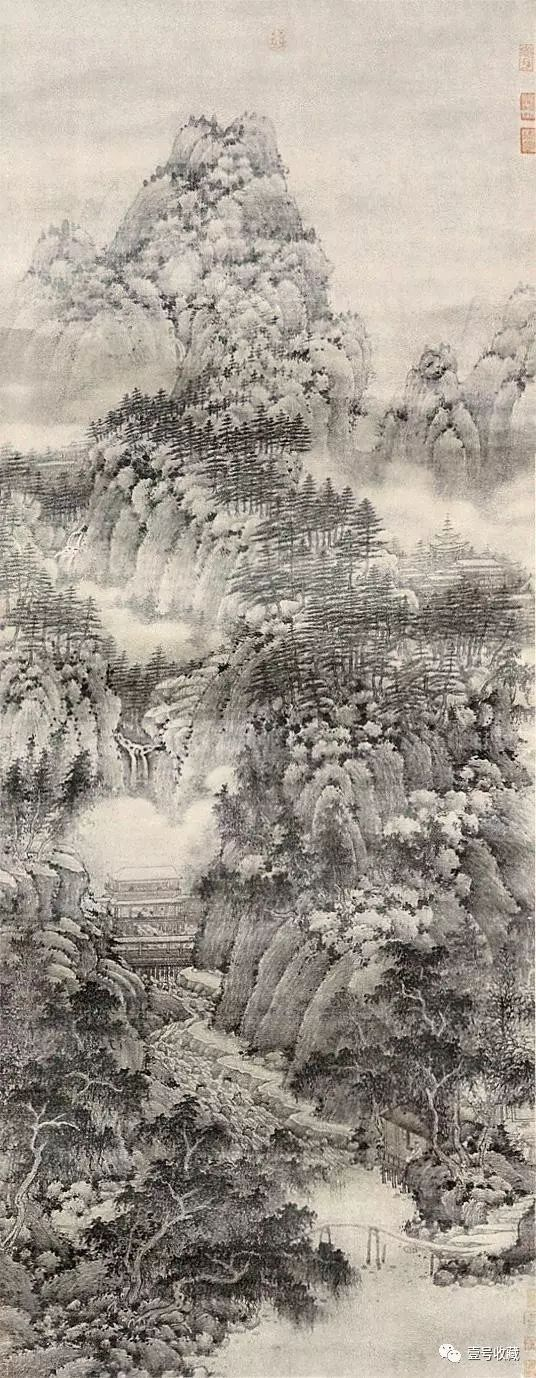booth: (381, 1102, 428, 1182)
bridge: (287, 1217, 488, 1267)
creek: (149, 1026, 290, 1156)
house: (102, 863, 194, 972), (400, 526, 512, 588), (37, 437, 97, 482)
man: (409, 1138, 420, 1160)
pine: (125, 408, 288, 489), (261, 483, 381, 592), (273, 618, 391, 713), (419, 591, 516, 657), (7, 583, 95, 641), (108, 655, 167, 705)
range: (61, 142, 475, 994)
tree: (112, 1120, 281, 1323), (390, 958, 502, 1178), (14, 994, 106, 1194)
waterfall: (110, 731, 167, 807), (56, 526, 83, 571)
